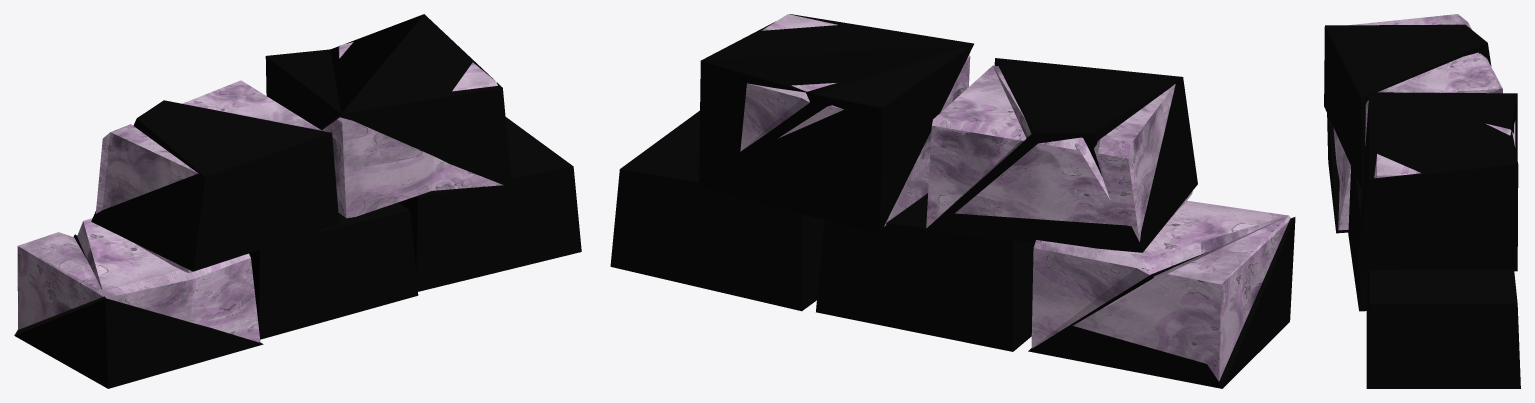
File: entity245172.gltf
3 views of the same model, side by side, from view 1: azimuth 30°, elevation 25°; view 2: azimuth 150°, elevation 25°; view 3: azimuth 270°, elevation 25° (orthographic). The views are drawn at different scales.
Visible parts, largest first — view 1: node_Str_Ruins_05; view 2: node_Str_Ruins_05; view 3: node_Str_Ruins_05.
Boxes of the visible parts, box(x1,y1,x2,y2) form: node_Str_Ruins_05: box(14, 14, 581, 388); node_Str_Ruins_05: box(610, 14, 1295, 388); node_Str_Ruins_05: box(1324, 14, 1520, 388).
Size of what is drawn, in the model's own units: 3.26 by 1.22 by 1.14.
